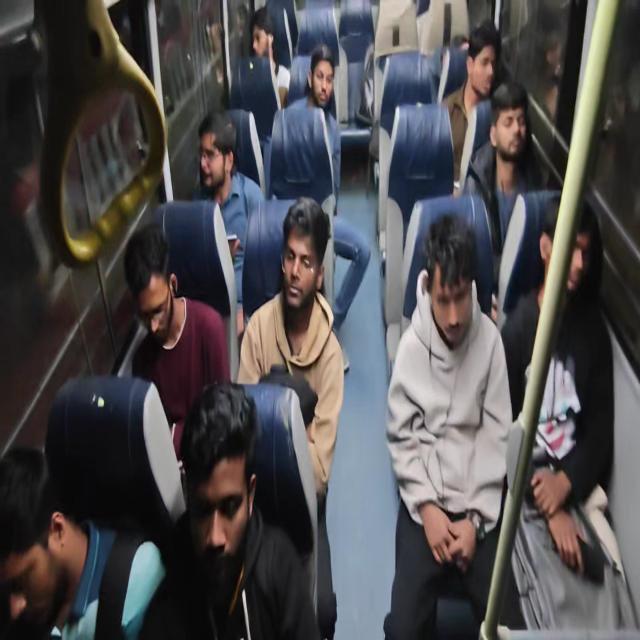person: (181, 386, 255, 593), (0, 439, 64, 629), (422, 196, 488, 363), (121, 224, 183, 347), (278, 190, 332, 315), (538, 192, 589, 306), (193, 109, 237, 201), (306, 48, 345, 130), (491, 80, 528, 161), (464, 24, 496, 105), (247, 9, 281, 77)
